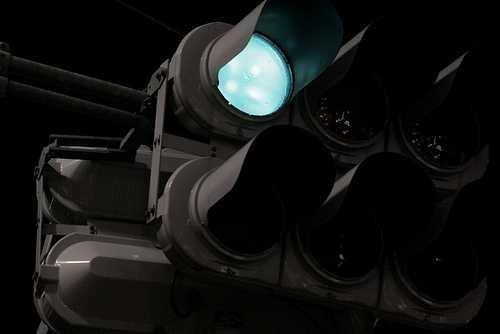green: (191, 15, 484, 184), (196, 15, 301, 129)
